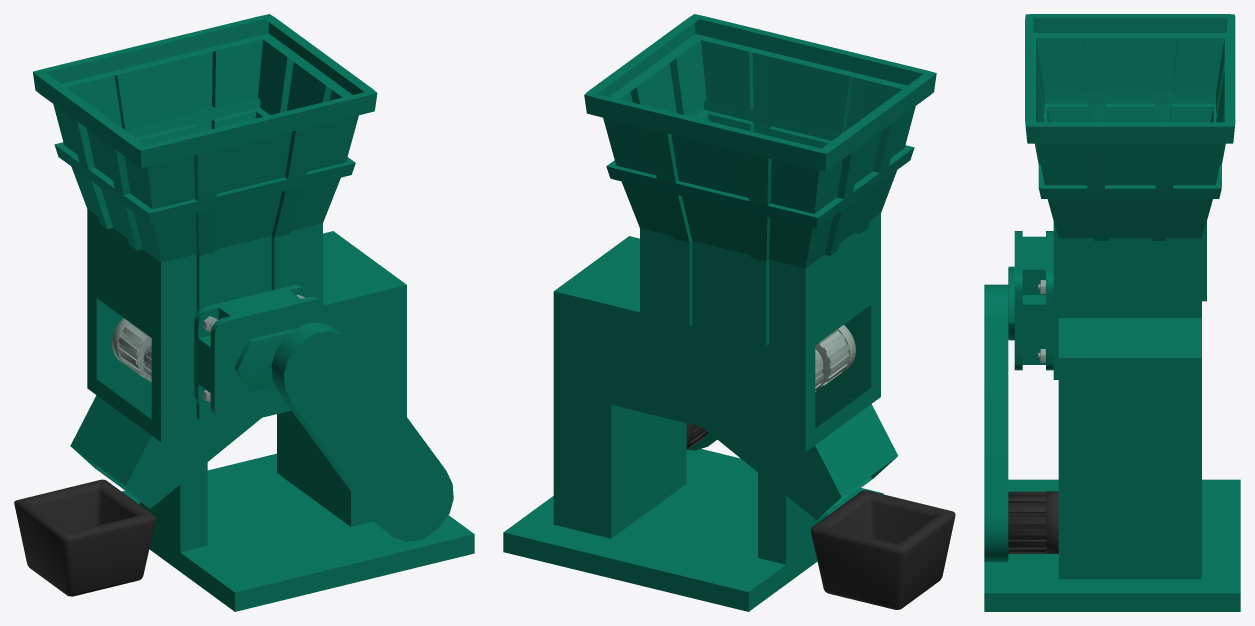
File: Trituradora.fbx
3 renders of one model, left to right at view 1: azimuth 30°, elevation 25°; view 2: azimuth 150°, elevation 25°; view 3: azimuth 270°, elevation 25°, orthographic. The views are drawn at different scales.
Visible parts, largest first — view 1: Cube.001, EntradaTrituradora, TornilloTuerca.004, Cube, Turbinas; view 2: Cube.001, EntradaTrituradora, Cube, Turbinas; view 3: Cube.001, EntradaTrituradora, TornilloTuerca.004, UnionNegra.
Boxes of the visible parts, left/top/right/bottom form: Cube.001: left=70, top=209, right=474, bottom=611; EntradaTrituradora: left=33, top=14, right=377, bottom=262; TornilloTuerca.004: left=194, top=285, right=453, bottom=541; Cube: left=14, top=479, right=155, bottom=596; Turbinas: left=112, top=318, right=151, bottom=383; Cube.001: left=503, top=213, right=898, bottom=611; EntradaTrituradora: left=584, top=14, right=936, bottom=268; Cube: left=811, top=490, right=955, bottom=609; Turbinas: left=815, top=325, right=855, bottom=391; Cube.001: left=984, top=221, right=1240, bottom=611; EntradaTrituradora: left=1025, top=14, right=1235, bottom=240; TornilloTuerca.004: left=984, top=231, right=1053, bottom=562; UnionNegra: left=1008, top=491, right=1058, bottom=553.
Size of the model in its own units: 770 by 945 by 488.
